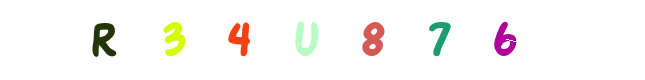3: (134, 0, 214, 80)
4: (261, 0, 341, 80)
6: (464, 0, 544, 80)
7: (354, 0, 434, 80)
8: (284, 0, 364, 80)
R: (63, 0, 143, 80)
U: (274, 0, 354, 80)
